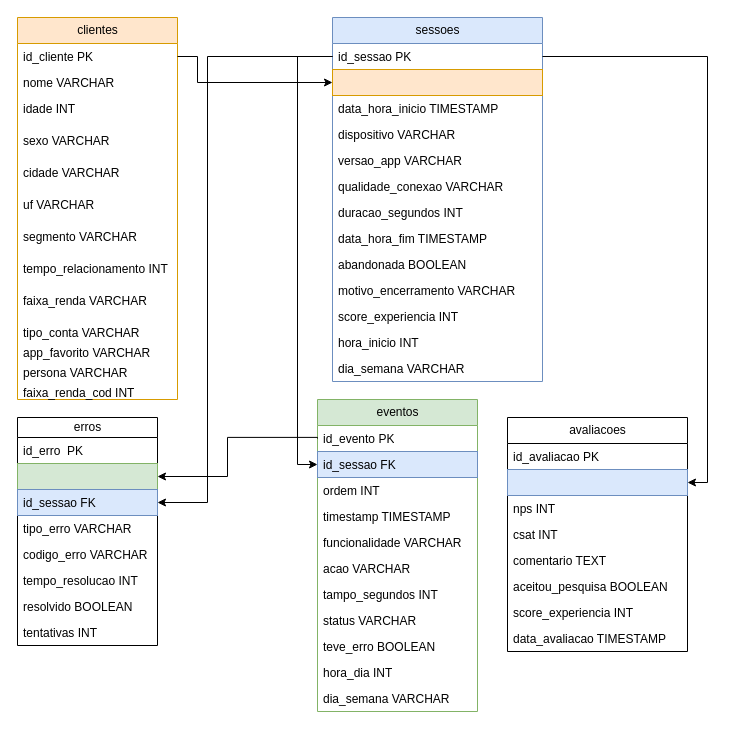
The diagram is 733 pixels wide and 732 high, and some of its shapes have lost their labels. Each missing label, with the centre of its shape:
"id_cliente FK" goes at (x=437, y=82).
"id_evento FK" goes at (x=87, y=476).
"id_sessao FK UNIQUE" goes at (x=597, y=482).
